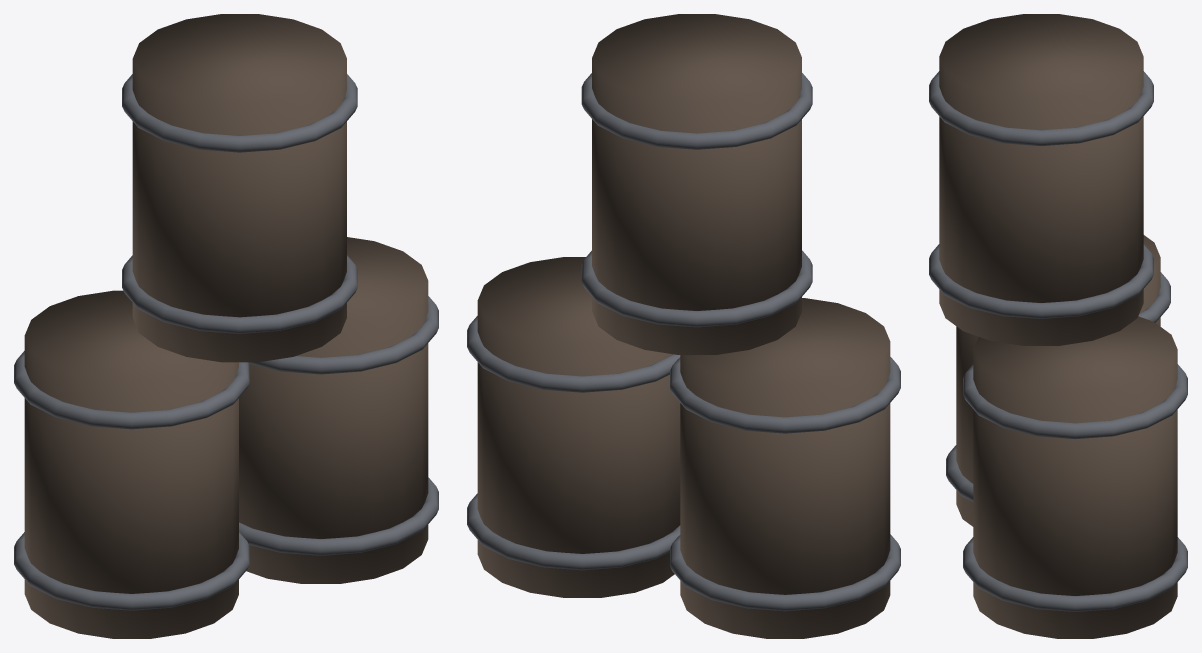
File: prop_ki_taru.glb
3 renders of one model, left to right at view 1: azimuth 30°, elevation 25°; view 2: azimuth 150°, elevation 25°; view 3: azimuth 270°, elevation 25°, orthographic. The views are drawn at different scales.
Visible parts, largest first — view 1: ki_taru; view 2: ki_taru; view 3: ki_taru.
Part boxes in pixels (bbox=[...]): ki_taru: bbox=[14, 14, 438, 638]; ki_taru: bbox=[467, 14, 900, 638]; ki_taru: bbox=[929, 14, 1187, 638].
Size of the model in its own units: 1.31 by 1.6 by 0.7598.
